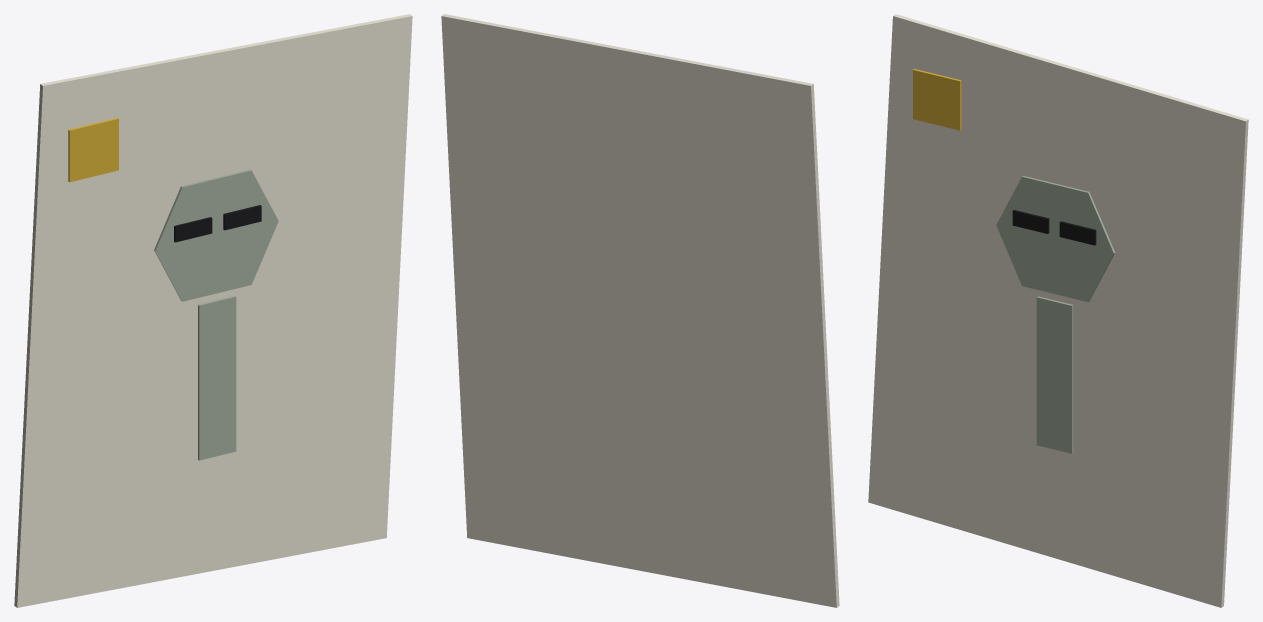
Rendered from GD_KidDrawing_01.glb.
3 renders of one model, left to right at view 1: azimuth 30°, elevation 25°; view 2: azimuth 150°, elevation 25°; view 3: azimuth 330°, elevation 25°, orthographic. The views are drawn at different scales.
Visible parts, largest first — view 1: GD_KidDrawing_01; view 2: GD_KidDrawing_01; view 3: GD_KidDrawing_01.
Boxes of the visible parts, left/top/right/bottom form: GD_KidDrawing_01: left=14, top=14, right=412, bottom=607; GD_KidDrawing_01: left=441, top=14, right=839, bottom=607; GD_KidDrawing_01: left=868, top=14, right=1248, bottom=607.
Size of the model in its own units: 0.3205 by 0.4152 by 0.009.
1 material, 1 textured.
